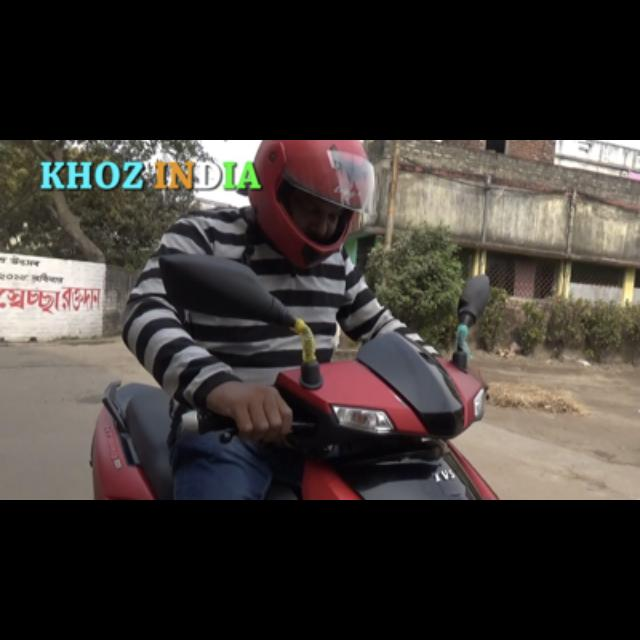With Helmet: (253, 143, 381, 271)
